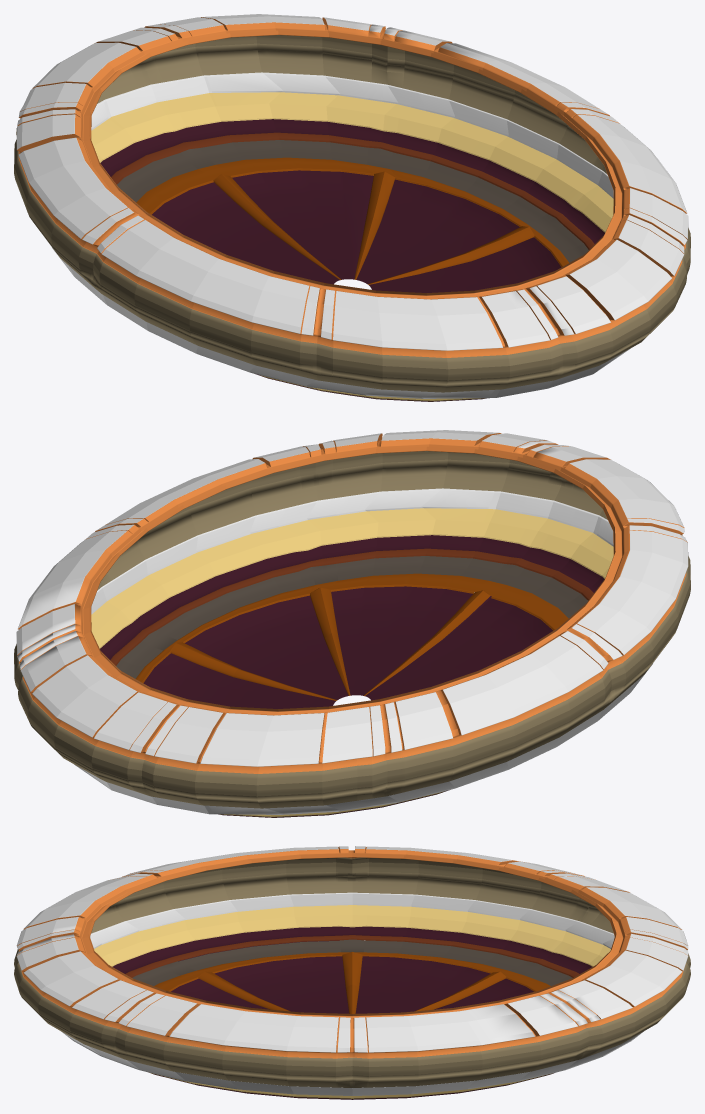
File: LevelBockout01_Smooth02.fbx
3 renders of one model, top to bottom at view 1: azimuth 30°, elevation 25°; view 2: azimuth 150°, elevation 25°; view 3: azimuth 270°, elevation 25°, orthographic. The views are drawn at different scales.
Parts seen in each view (by area): view 1: Cone; view 2: Cone; view 3: Cone.
Part boxes in pixels (box(x1,y1,x2,y2)): Cone: box(14, 14, 690, 401); Cone: box(14, 430, 690, 817); Cone: box(14, 846, 690, 1099).
Bounding box in the file's own units: 14617 × 3396 × 20407.
